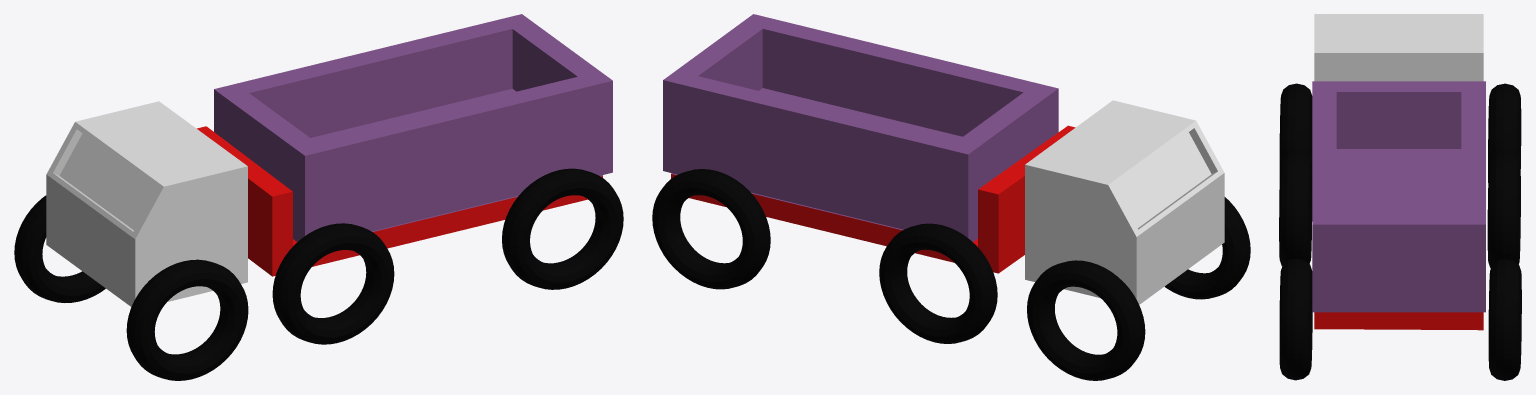
The model's file is car.fbx.
3 renders of one model, left to right at view 1: azimuth 30°, elevation 25°; view 2: azimuth 150°, elevation 25°; view 3: azimuth 270°, elevation 25°, orthographic. The views are drawn at different scales.
Parts seen in each view (by area): view 1: Cube, 立方体; view 2: Cube, 立方体; view 3: Cube, 立方体.
Part boxes in pixels (bbox=[...]): Cube: bbox=[14, 14, 623, 380]; 立方体: bbox=[46, 101, 247, 306]; Cube: bbox=[652, 14, 1250, 380]; 立方体: bbox=[1025, 100, 1224, 304]; Cube: bbox=[1279, 81, 1521, 380]; 立方体: bbox=[1314, 14, 1483, 81].
Bounding box in the file's own units: 312 × 114 × 139.
